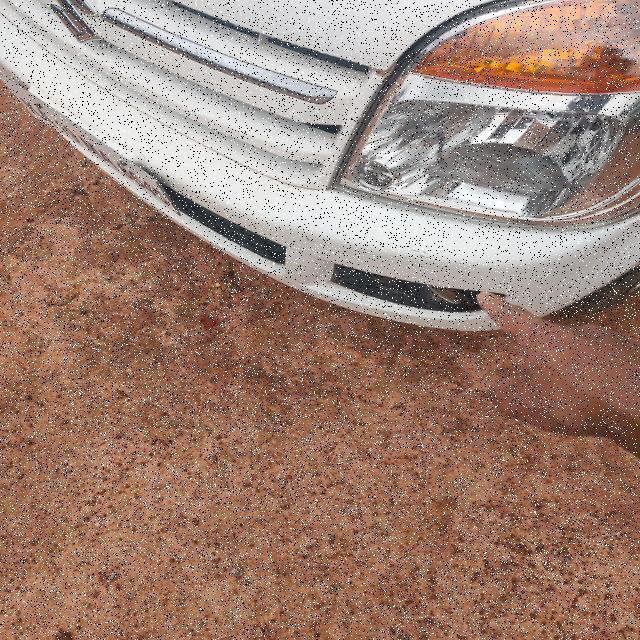car damage: (302, 169, 600, 346)
